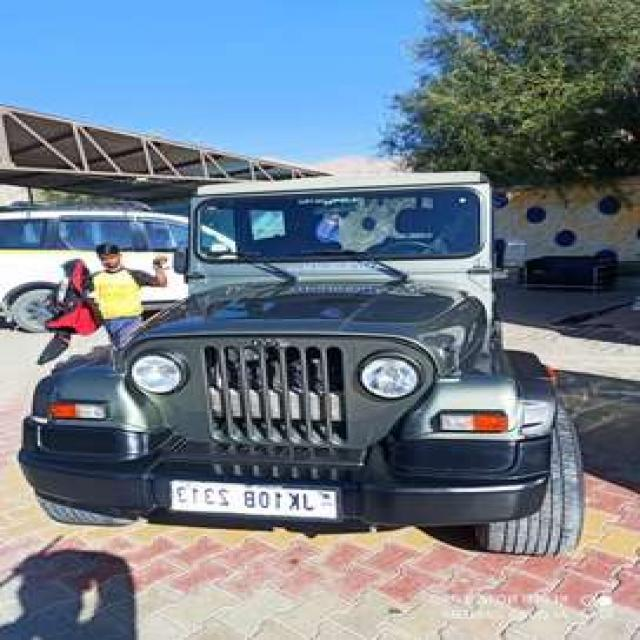license_plate: (163, 476, 347, 529)
